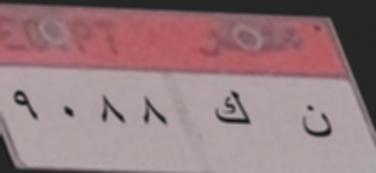0: (55, 93, 80, 126)
8: (87, 95, 128, 131), (134, 94, 170, 131)
9: (11, 80, 40, 131)
kaaf: (207, 83, 258, 140)
noon: (292, 101, 335, 148)
